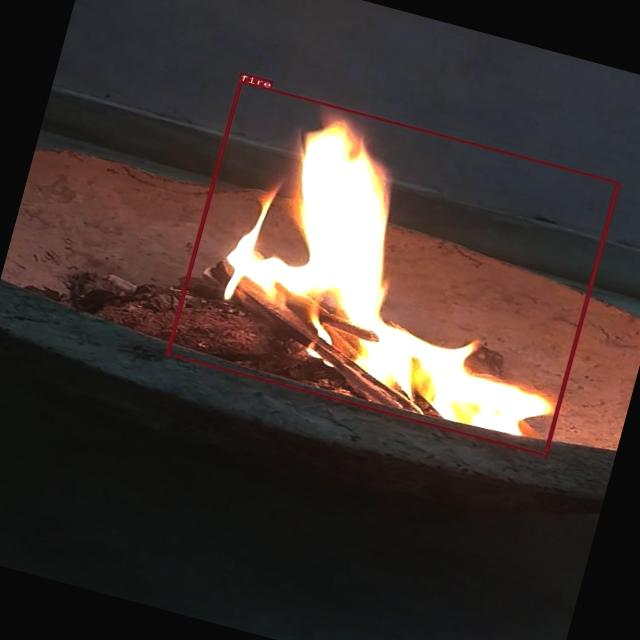fire: (164, 79, 619, 456)
